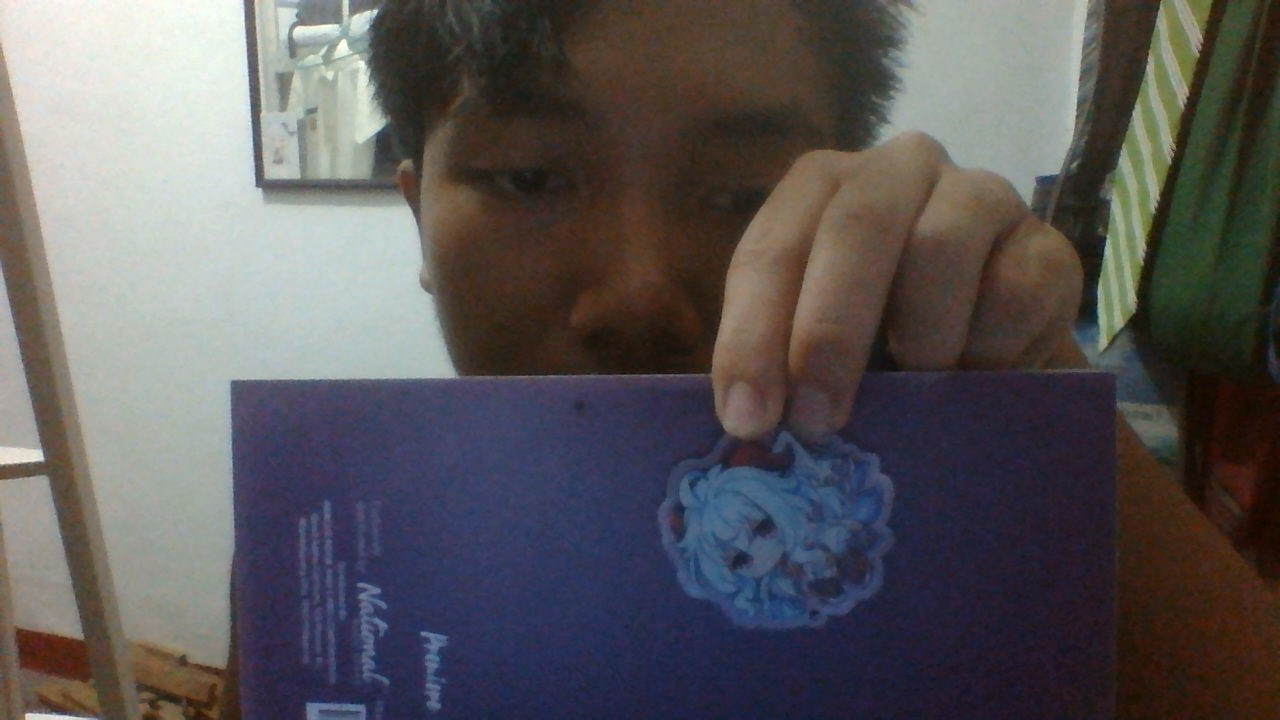Person: (644, 436, 911, 639)
